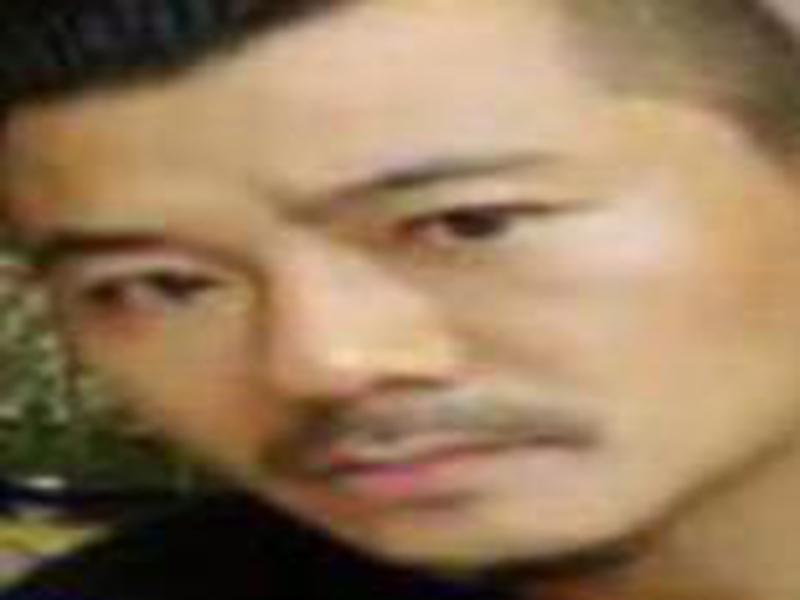without_mask: (14, 42, 757, 568)
